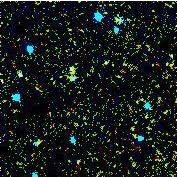star: (148, 44, 177, 74)
